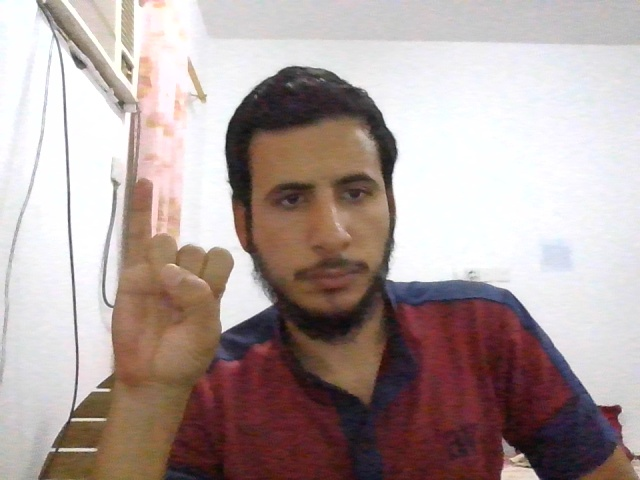One: (111, 177, 235, 383)
